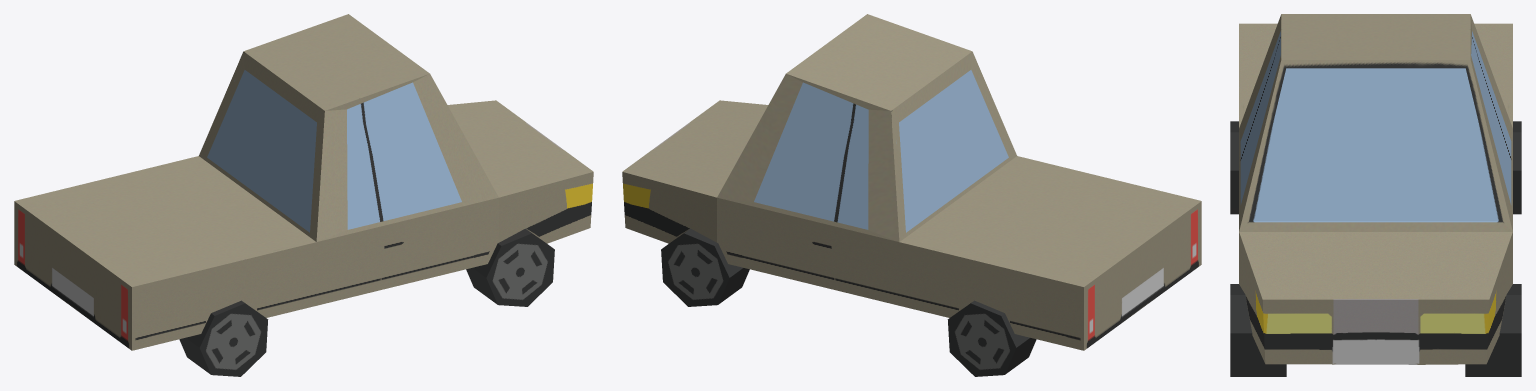
File: Carro3LOD1.fbx
The picture shows the model from 3 angles, left to right: view 1: azimuth 30°, elevation 25°; view 2: azimuth 150°, elevation 25°; view 3: azimuth 270°, elevation 25°; orthographic projection. The views are drawn at different scales.
Visible parts, largest first — view 1: carro3LOD1; view 2: carro3LOD1; view 3: carro3LOD1.
Boxes of the visible parts, x1,y1,x2,y2 form: carro3LOD1: [14, 14, 593, 376]; carro3LOD1: [622, 14, 1201, 376]; carro3LOD1: [1230, 14, 1521, 376].
Bounding box in the file's own units: 599 × 286 × 275.
